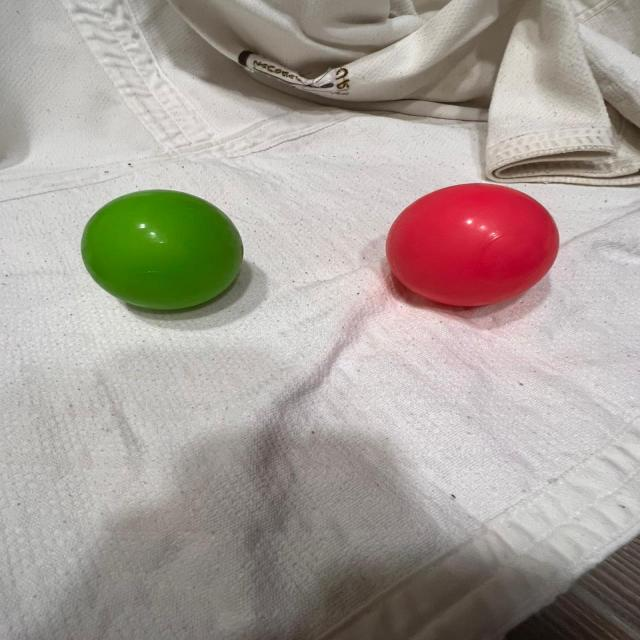ball: (382, 179, 561, 311), (77, 185, 245, 316)
